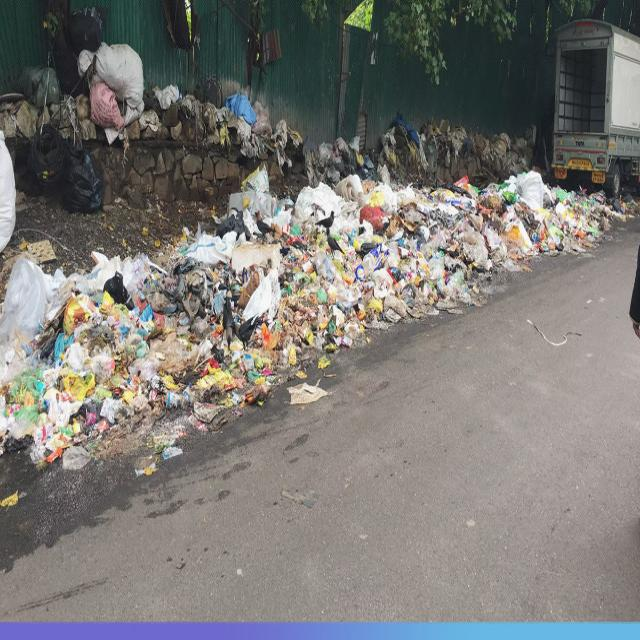garbage: (0, 27, 637, 493)
